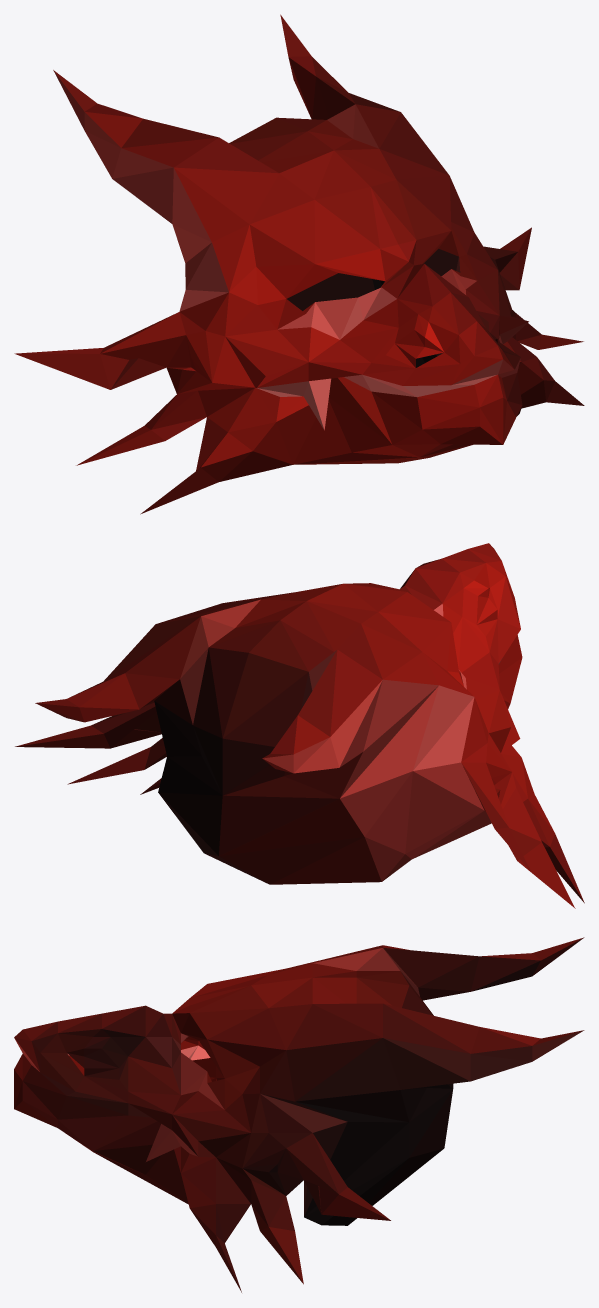
Rendered from red-dragon-mask.obj.
3 views of the same model, one above another, from view 1: azimuth 30°, elevation 25°; view 2: azimuth 150°, elevation 25°; view 3: azimuth 270°, elevation 25° (orthographic). The views are drawn at different scales.
Visible parts, largest first — view 1: Item Red dragon mask 2026-09-24_17-11-45; view 2: Item Red dragon mask 2026-09-24_17-11-45; view 3: Item Red dragon mask 2026-09-24_17-11-45.
Part boxes in pixels (x1,y1,x2,y2): Item Red dragon mask 2026-09-24_17-11-45: [14, 14, 584, 514]; Item Red dragon mask 2026-09-24_17-11-45: [15, 543, 584, 908]; Item Red dragon mask 2026-09-24_17-11-45: [14, 937, 584, 1292].
Bounding box in the file's own units: 57 × 29 × 65.
